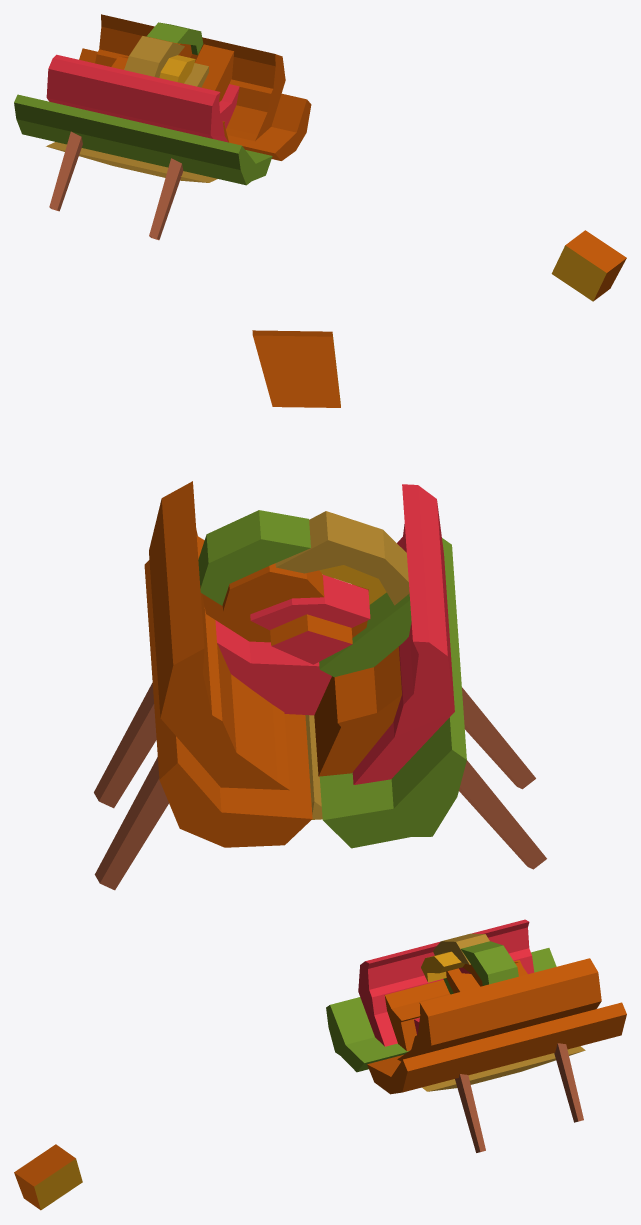
Rendered from la flor grande.fbx.
The picture shows the model from 3 angles, top to bottom: view 1: azimuth 30°, elevation 25°; view 2: azimuth 150°, elevation 25°; view 3: azimuth 270°, elevation 25°; orthographic projection. The views are drawn at different scales.
Visible parts, largest first — view 1: Fror, Cube.004, Desert.029, Desert.030; view 2: Fror, Cube.004, Desert.032, Desert.031, Desert.030, Desert.029; view 3: Fror, Cube.004, Desert.031, Desert.032.
Boxes of the visible parts, x1=… form: Fror: x1=14, y1=14, x2=311, y2=185; Cube.004: x1=551, y1=230, x2=626, y2=301; Desert.029: x1=149, y1=158, x2=183, y2=240; Desert.030: x1=49, y1=131, x2=82, y2=211; Fror: x1=144, y1=481, x2=466, y2=848; Cube.004: x1=252, y1=330, x2=340, y2=407; Desert.032: x1=94, y1=757, x2=168, y2=890; Desert.031: x1=94, y1=683, x2=156, y2=808; Desert.030: x1=459, y1=760, x2=546, y2=869; Desert.029: x1=462, y1=687, x2=535, y2=789; Fror: x1=326, y1=919, x2=626, y2=1094; Cube.004: x1=14, y1=1144, x2=82, y2=1210; Desert.031: x1=455, y1=1074, x2=485, y2=1152; Desert.032: x1=554, y1=1043, x2=583, y2=1122.
Bounding box in the file's own units: 1468 × 631 × 2127.
